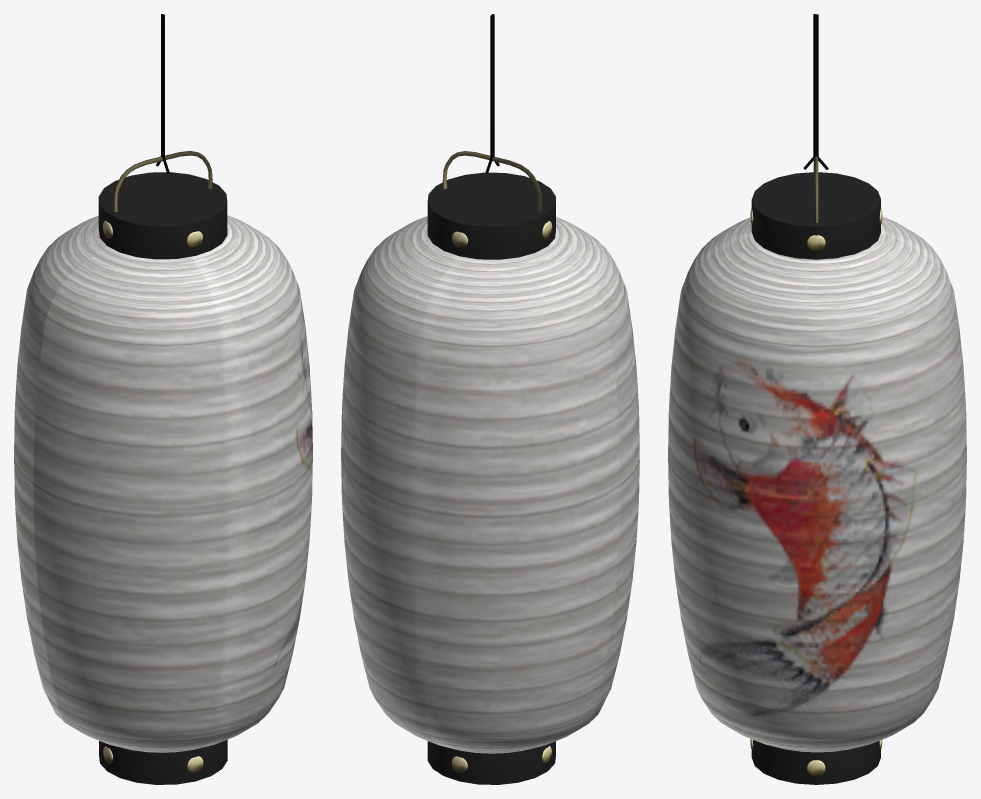
The model's file is Lantern2.d.fbx.
3 renders of one model, left to right at view 1: azimuth 30°, elevation 25°; view 2: azimuth 150°, elevation 25°; view 3: azimuth 270°, elevation 25°, orthographic.
Parts seen in each view (by area): view 1: Group 0; view 2: Group 0; view 3: Group 0.
Part boxes in pixels (x1=…): Group 0: x1=14, y1=14, x2=312, y2=784; Group 0: x1=341, y1=14, x2=639, y2=784; Group 0: x1=668, y1=14, x2=966, y2=784.
Size of the model in its own units: 45.99 by 125 by 45.74.
Materials: 1 (1 with a texture image).
